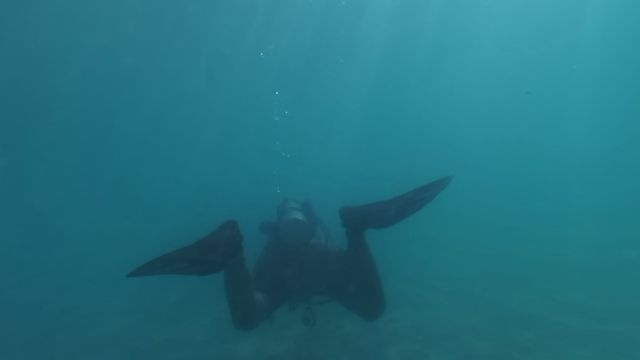Diver: (119, 169, 464, 338)
